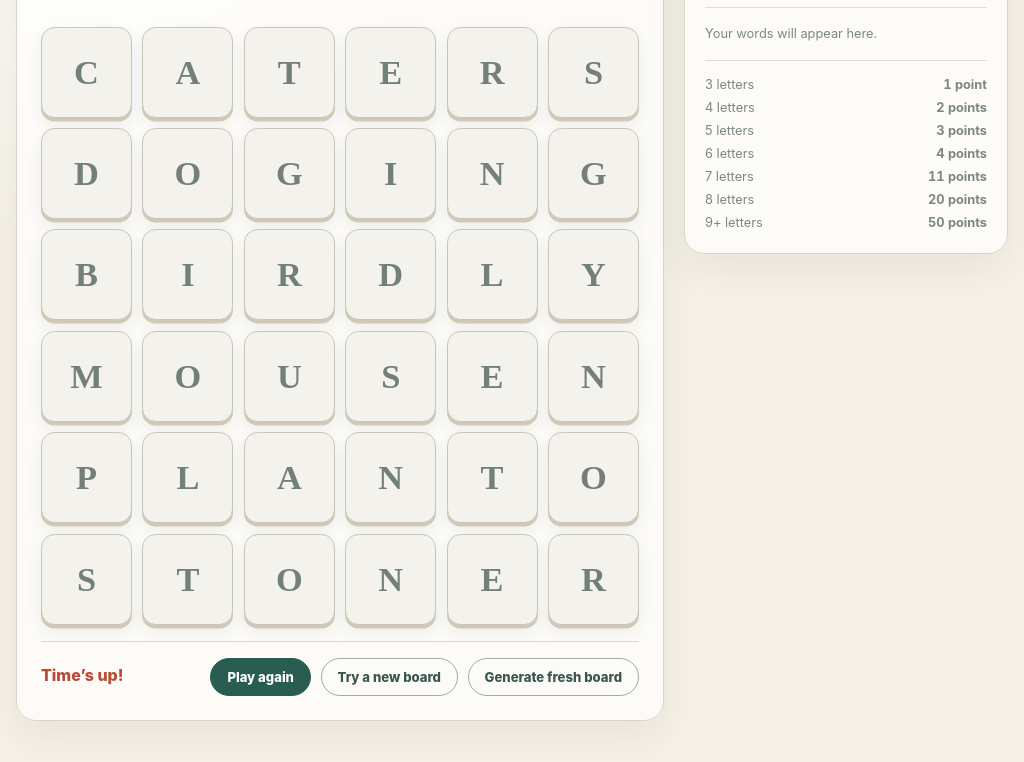
Test case: App › expires a round and can advance to the next board
This screenshot has width=1024, height=762.
(page scrolled)
Expected: the text "Time’s up!" is shown, [41,665,124,685]
Click the button "Try a new board".
click(389, 677)  # box [320,658,458,696]
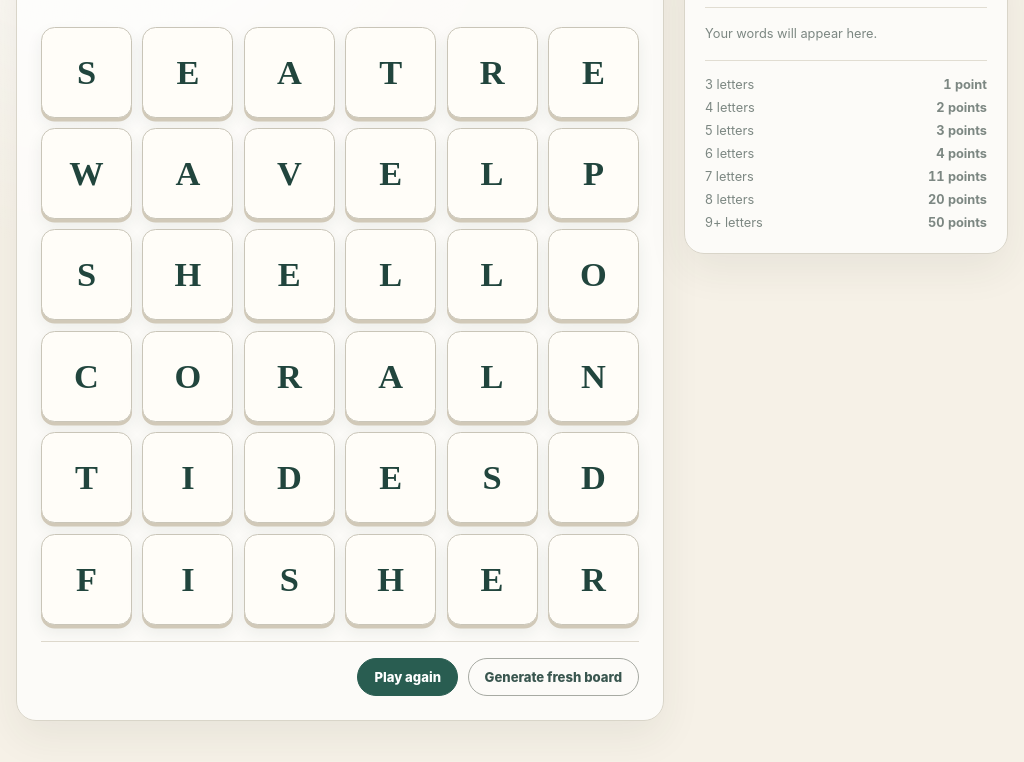
Now the text "Time’s up!" is gone
